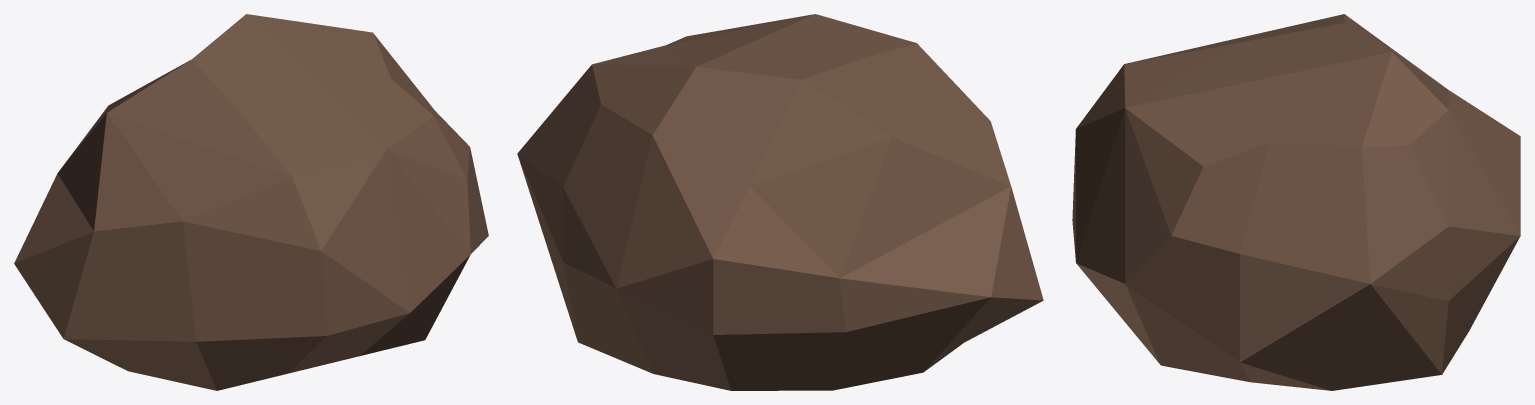
Rendered from Boulder-A08.fbx.
3 views of the same model, side by side, from view 1: azimuth 30°, elevation 25°; view 2: azimuth 150°, elevation 25°; view 3: azimuth 270°, elevation 25° (orthographic). The views are drawn at different scales.
Visible parts, largest first — view 1: Boulder-A08; view 2: Boulder-A08; view 3: Boulder-A08.
Boxes of the visible parts, bbox=[...] form: Boulder-A08: bbox=[14, 14, 488, 390]; Boulder-A08: bbox=[517, 14, 1043, 390]; Boulder-A08: bbox=[1072, 14, 1520, 390].
Bounding box in the file's own units: 145 × 84.16 × 123.
